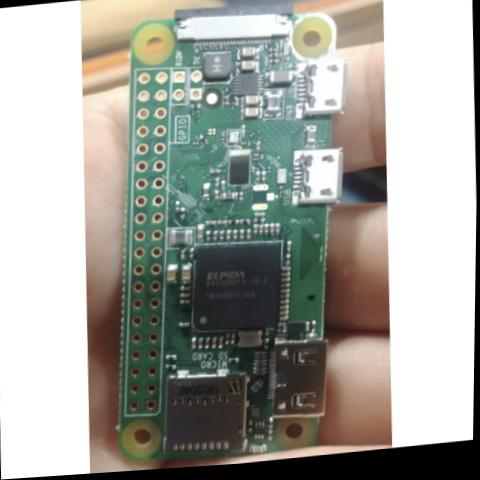Raspberry-Pi-Zero-W: (102, 0, 364, 472)
